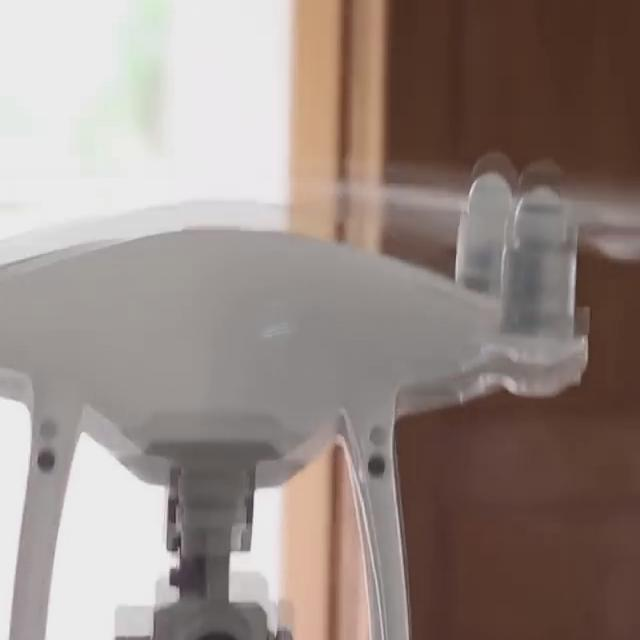drone: (0, 97, 639, 548)
